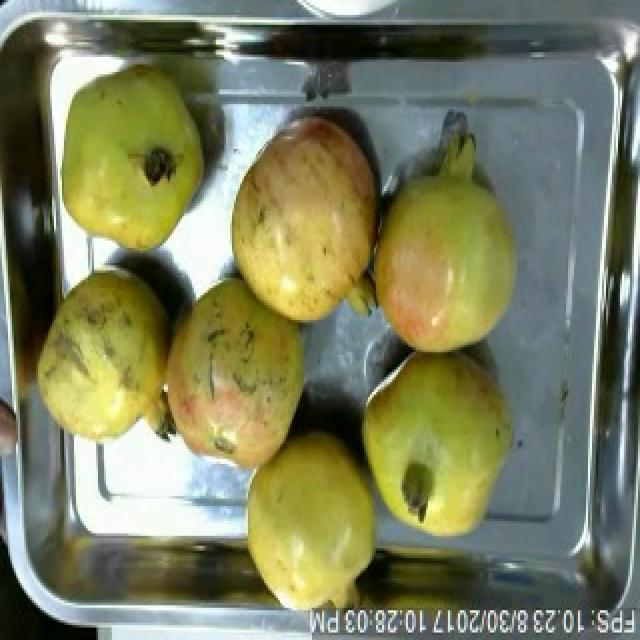fruit: (350, 119, 532, 365), (218, 107, 388, 340), (142, 268, 318, 482), (354, 340, 524, 546), (52, 57, 216, 261), (234, 422, 390, 632), (26, 253, 178, 457)
